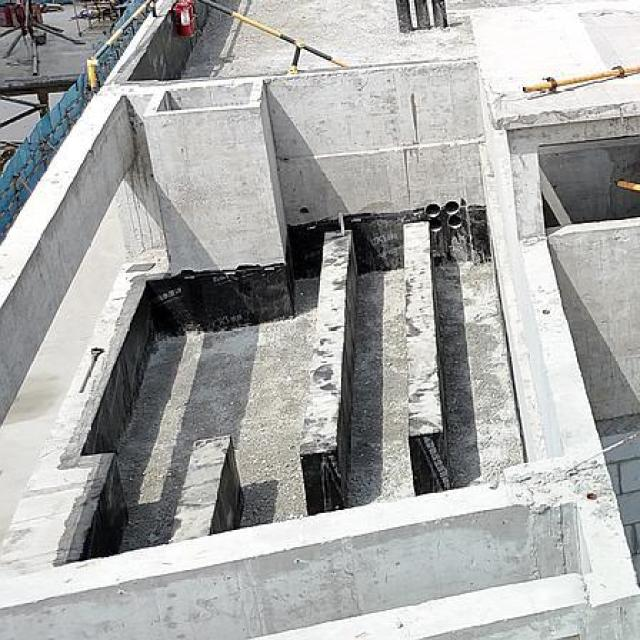Guardrail: (195, 0, 352, 73), (84, 0, 159, 96), (614, 177, 640, 193)
